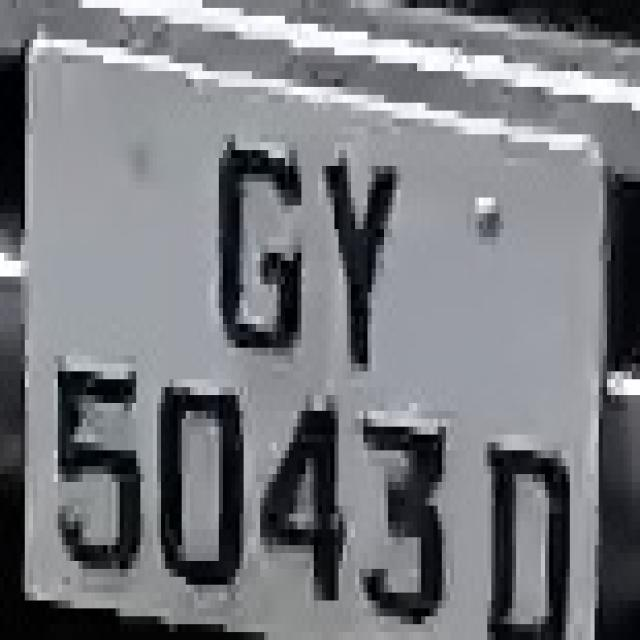0: (148, 340, 240, 600)
3: (351, 387, 450, 624)
4: (256, 364, 355, 600)
5: (46, 332, 140, 577)
D: (3, 5, 4, 8)
G: (202, 103, 306, 379)
Y: (318, 118, 400, 372)
